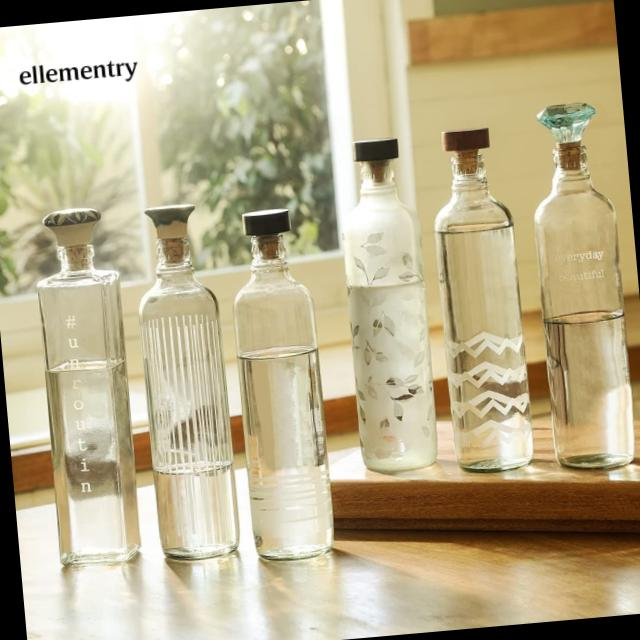glass: (216, 182, 348, 589), (515, 81, 640, 482), (126, 185, 244, 585), (31, 190, 146, 588), (424, 111, 548, 476), (328, 124, 450, 484)
